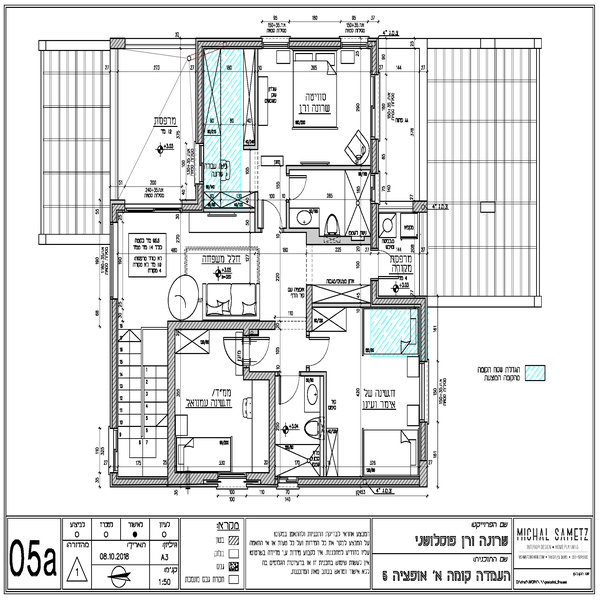door: (272, 369, 306, 412), (256, 198, 286, 234), (220, 334, 247, 367), (247, 324, 269, 363), (311, 334, 334, 367), (286, 171, 308, 204)
room: (309, 297, 430, 490), (110, 190, 277, 324), (165, 315, 282, 495), (252, 34, 381, 172), (187, 28, 258, 214), (276, 161, 378, 255)
wall: (192, 42, 217, 142), (298, 474, 430, 489), (265, 370, 280, 492), (167, 319, 177, 486), (177, 318, 280, 333), (412, 302, 431, 364), (309, 232, 367, 250), (287, 160, 377, 171), (320, 371, 330, 469), (167, 470, 218, 488), (193, 36, 262, 49), (376, 294, 436, 307), (317, 300, 369, 314), (305, 280, 318, 331), (370, 202, 383, 250), (298, 364, 326, 378), (242, 372, 275, 382)
window: (107, 223, 126, 302), (369, 77, 384, 142), (418, 364, 434, 422), (127, 203, 182, 218), (109, 429, 124, 470), (217, 473, 245, 493), (194, 143, 207, 186), (264, 35, 290, 51), (346, 33, 367, 52), (370, 176, 382, 201), (278, 476, 294, 490)
